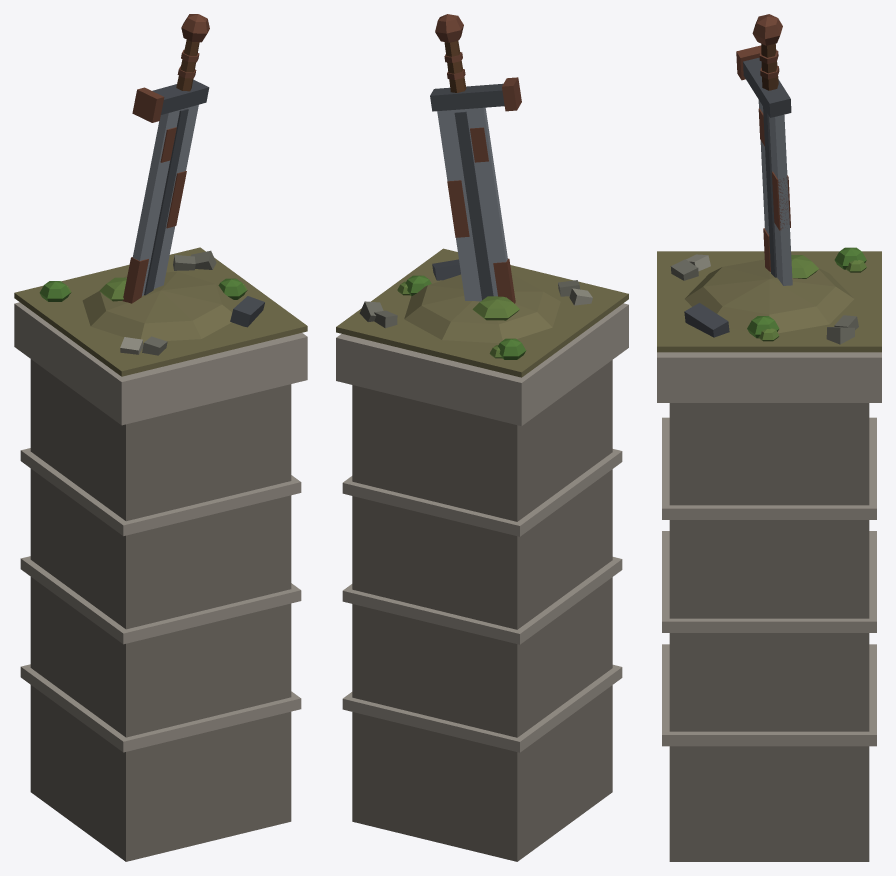
The model's file is decor_giant_sword.glb.
3 renders of one model, left to right at view 1: azimuth 30°, elevation 25°; view 2: azimuth 150°, elevation 25°; view 3: azimuth 270°, elevation 25°, orthographic. The views are drawn at different scales.
Visible parts, largest first — view 1: decor_giant_sword; view 2: decor_giant_sword; view 3: decor_giant_sword.
Boxes of the visible parts, box(x1,y1,x2,y2) form: decor_giant_sword: box(14, 14, 307, 861); decor_giant_sword: box(336, 14, 628, 861); decor_giant_sword: box(657, 14, 881, 861).
Size of the model in its own units: 1.8 by 7.26 by 1.8.
